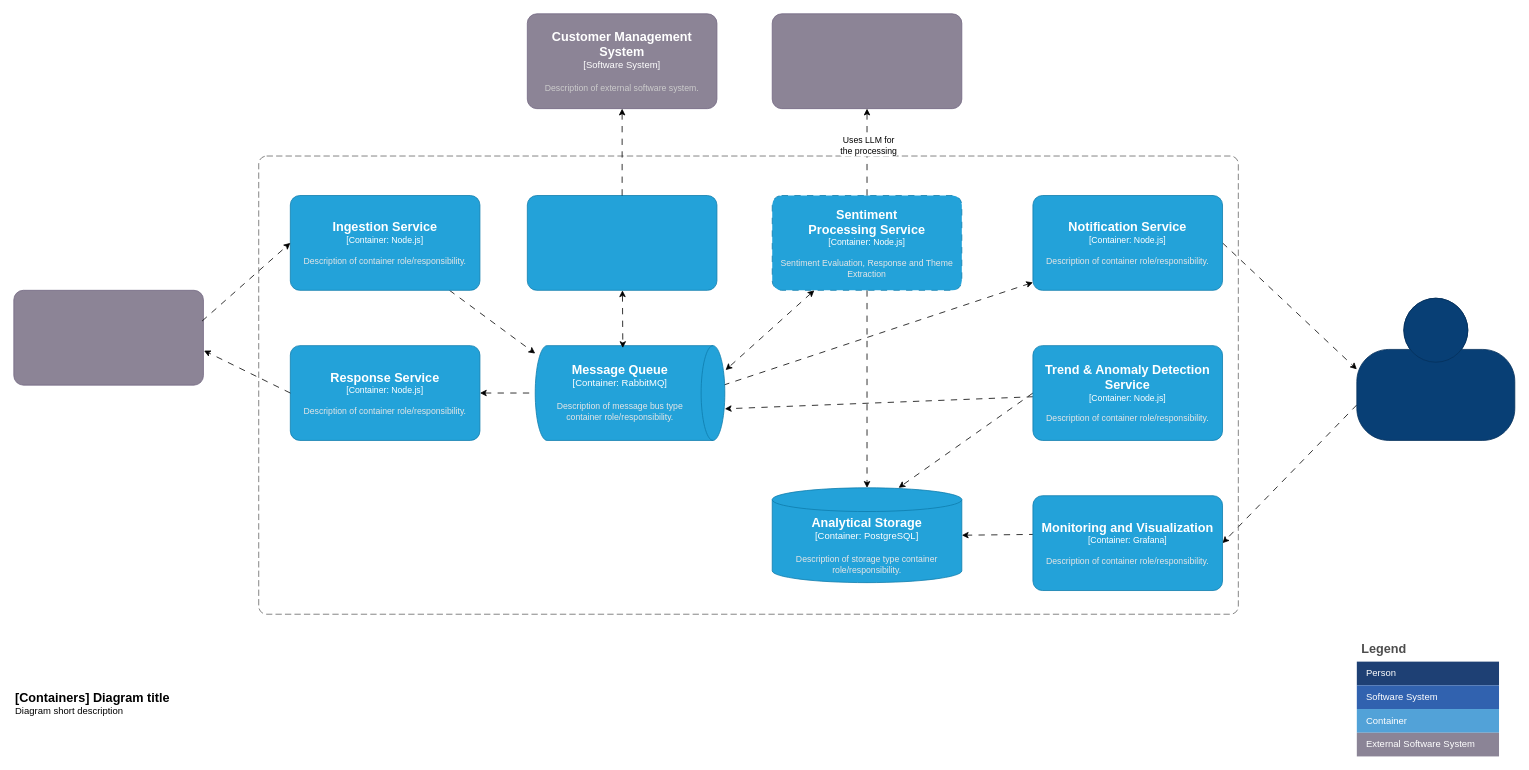
Image size: 1529x770. Some labels were removed from this diagram. Each missing label, with the box of its shape:
AI Platform [Software System] Description of external software system.: (771, 13, 962, 109)
AI-Powered Sentiment Analysis Agent and Review Responder [Software System]: (258, 155, 1238, 614)
Curation Service [Container: Node.js] Pre-processing, Enrichment, Anonymizing: (527, 195, 717, 290)
Escalation Manager [Person] Description of person.: (1356, 297, 1515, 440)
Social Media Reviews [Software System] Description of external software system.: (13, 290, 203, 385)
